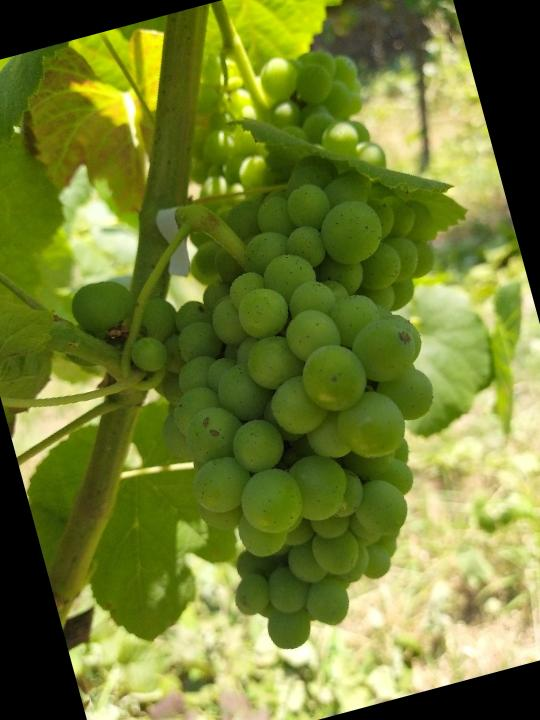grape: (47, 128, 531, 686)
